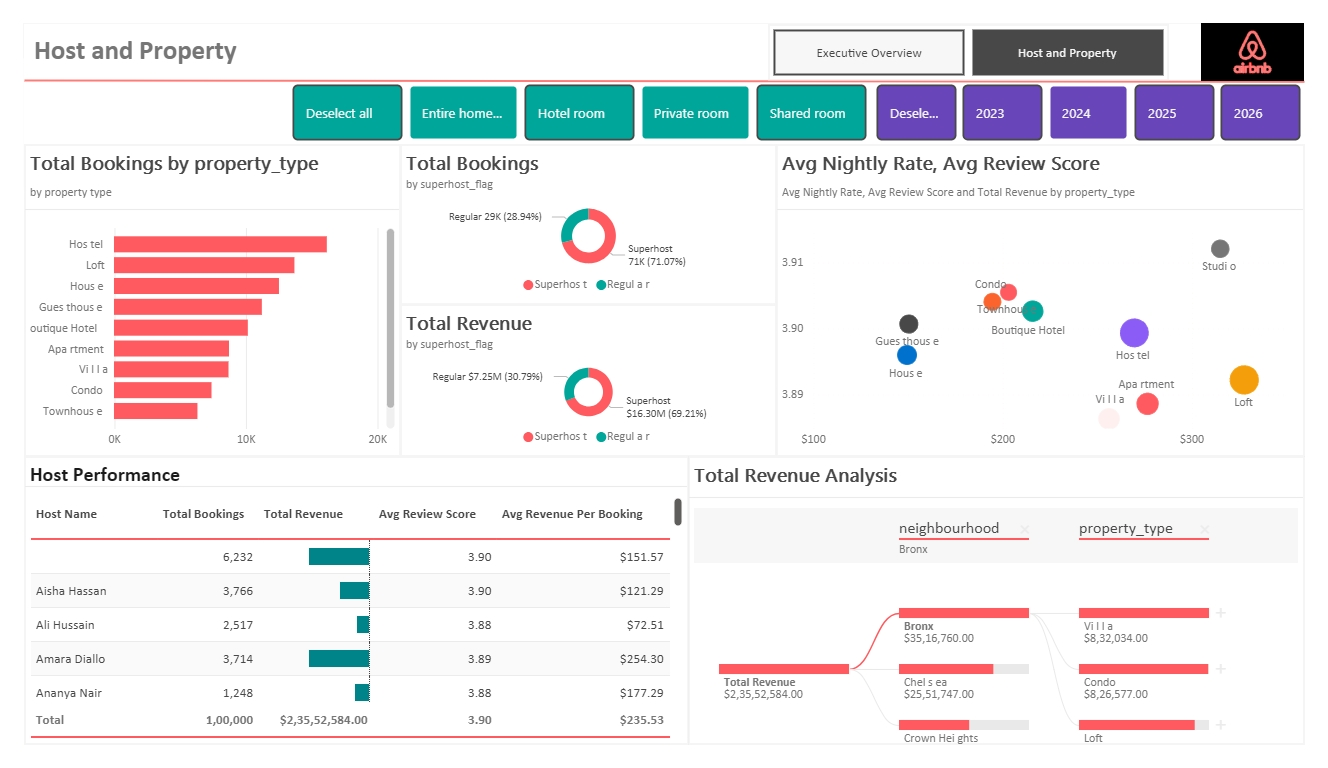

The page's visual inventory and layout, read from the dashboard file:
{"tool":"powerbi","page":{"name":"Host and Property","canvas":[1280,720],"ordinal":1},"visuals":[{"type":"advancedSlicerVisual","title":"Room Type","fields":{"Values":["dim_properties.room_type"]},"box":[264,56,584,64],"z":0},{"type":"advancedSlicerVisual","title":"Room Type","fields":{"Values":["dim_date.year"]},"box":[848,56,432,64],"z":1000},{"type":"clusteredBarChart","fields":{"Y":["_Measure.Total Bookings"],"Category":["dim_properties.property_type"]},"box":[0,120,376,312],"z":2000},{"type":"donutChart","fields":{"Category":["dim_host.superhost_flag"],"Y":["_Measure.Total Bookings"]},"box":[376,120,376,160],"z":3000},{"type":"donutChart","fields":{"Category":["dim_host.superhost_flag"],"Y":["_Measure.Total Revenue"]},"box":[376,280,376,152],"z":4000},{"type":"scatterChart","title":"Avg Nightly Rate, Avg Review Score ","fields":{"Series":["dim_properties.property_type"],"X":["_Measure.Avg Nightly Rate"],"Y":["_Measure.Avg Review Score"],"Size":["_Measure.Total Revenue"]},"box":[752,120,528,312],"z":5000},{"type":"decompositionTreeVisual","title":"Total Revenue Analysis","fields":{"Analyze":["_Measure.Total Revenue"],"ExplainBy":["dim_location.neighbourhood","dim_properties.property_type","dim_properties.room_type","dim_host.superhost_flag"]},"box":[664,432,616,288],"z":6000},{"type":"tableEx","title":"Host Performance","fields":{"Values":["dim_host.host_name","_Measure.Total Bookings","_Measure.Total Revenue","_Measure.Avg Review Score","_Measure.Avg Revenue Per Booking"]},"box":[0,432,664,288],"z":7000},{"type":"textbox","box":[0,0,272,56],"z":8000},{"type":"pageNavigator","box":[744,0,400,56],"z":9000}]}

Visuals, with their boxes in screenshot pixels (x1, y1, x2, y2), scaled from the page's 1280x720 canvas onto the 1328x768 screenshot:
"Room Type" advancedSlicerVisual: detection(274, 60, 880, 128)
"Room Type" advancedSlicerVisual: detection(880, 60, 1327, 128)
clusteredBarChart - _Measure.Total Bookings x dim_properties.property_type: detection(0, 128, 390, 461)
donutChart - dim_host.superhost_flag x _Measure.Total Bookings: detection(390, 128, 780, 299)
donutChart - dim_host.superhost_flag x _Measure.Total Revenue: detection(390, 299, 780, 461)
"Avg Nightly Rate, Avg Review Score " scatterChart: detection(780, 128, 1327, 461)
"Total Revenue Analysis" decompositionTreeVisual: detection(689, 461, 1327, 767)
"Host Performance" tableEx: detection(0, 461, 689, 767)
textbox: detection(0, 0, 282, 60)
pageNavigator: detection(772, 0, 1187, 60)
